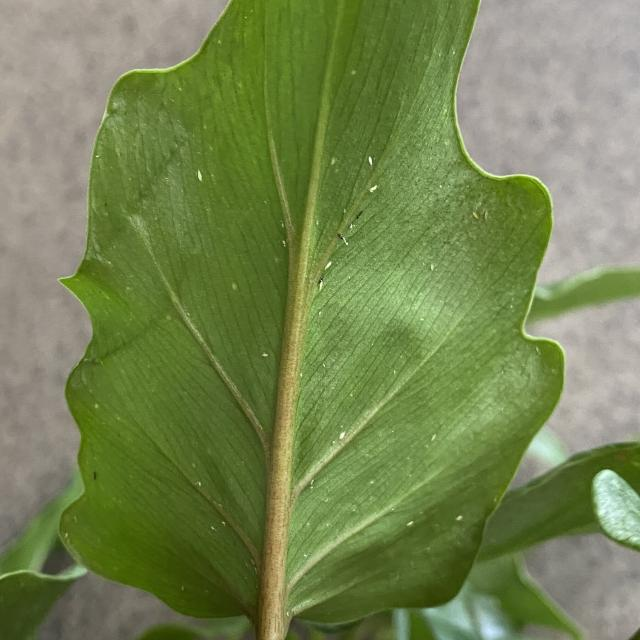Thrip-Adult-: (356, 208, 365, 219), (316, 274, 325, 285), (336, 231, 344, 241)
Thrip-Larva-: (322, 257, 336, 269), (366, 153, 376, 168), (427, 258, 436, 274), (195, 168, 206, 181), (369, 183, 379, 197), (337, 428, 347, 441), (366, 154, 376, 167), (483, 208, 491, 222), (428, 433, 438, 442), (406, 518, 416, 527), (472, 209, 479, 221), (260, 352, 270, 356)
